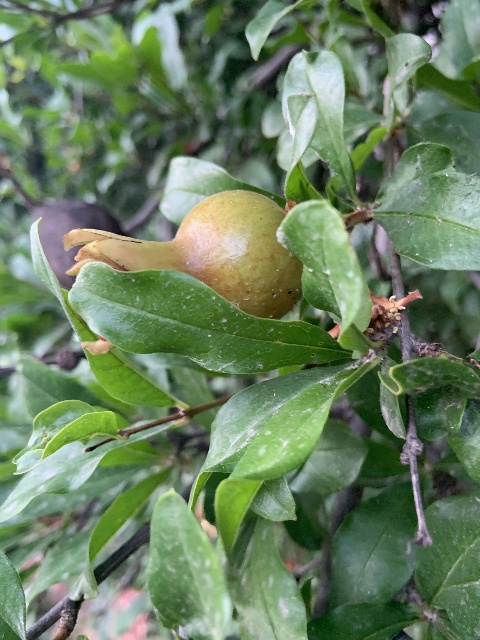early-fruit: (62, 189, 303, 357)
